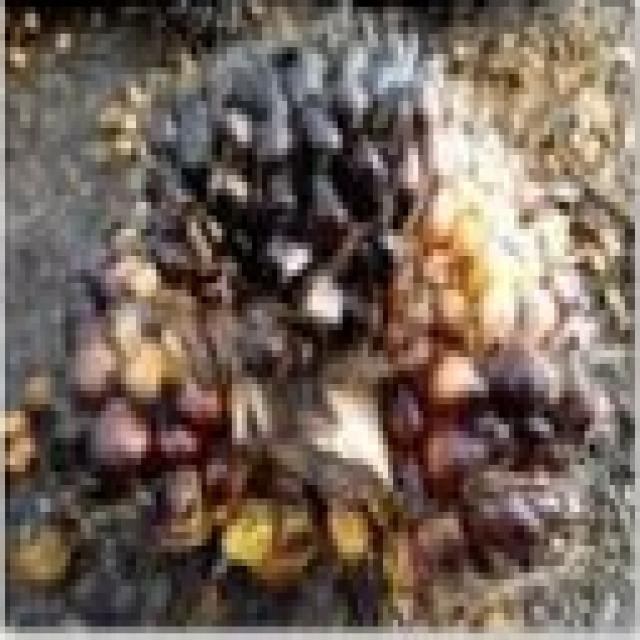FFB: (17, 38, 594, 610)
